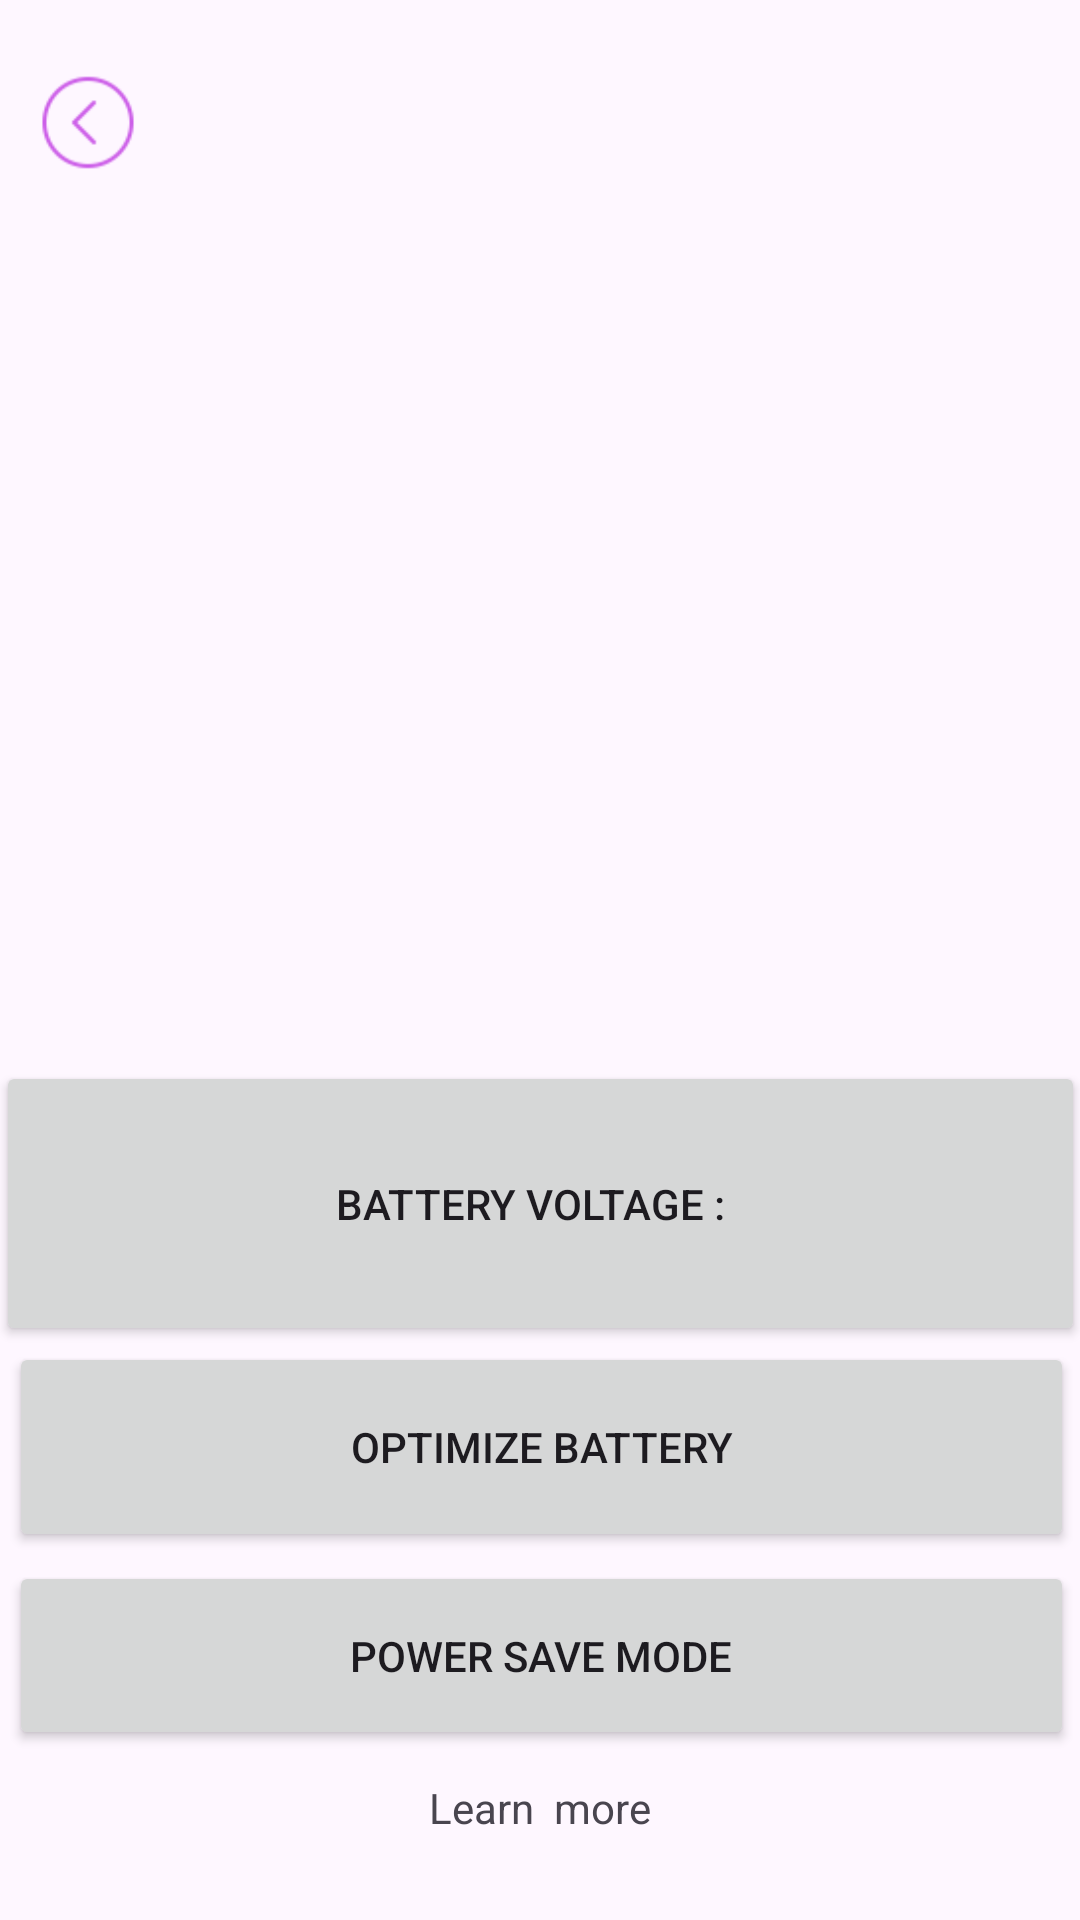

Screen size 1080*1920. Icon name, then its box in pixels as (x1, y1, x2, y2):
back: (42, 76, 134, 169)
